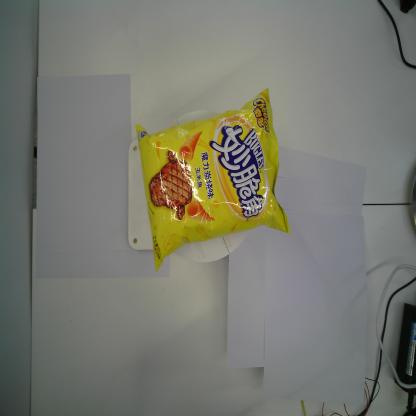Puffed Food: (134, 85, 292, 276)
